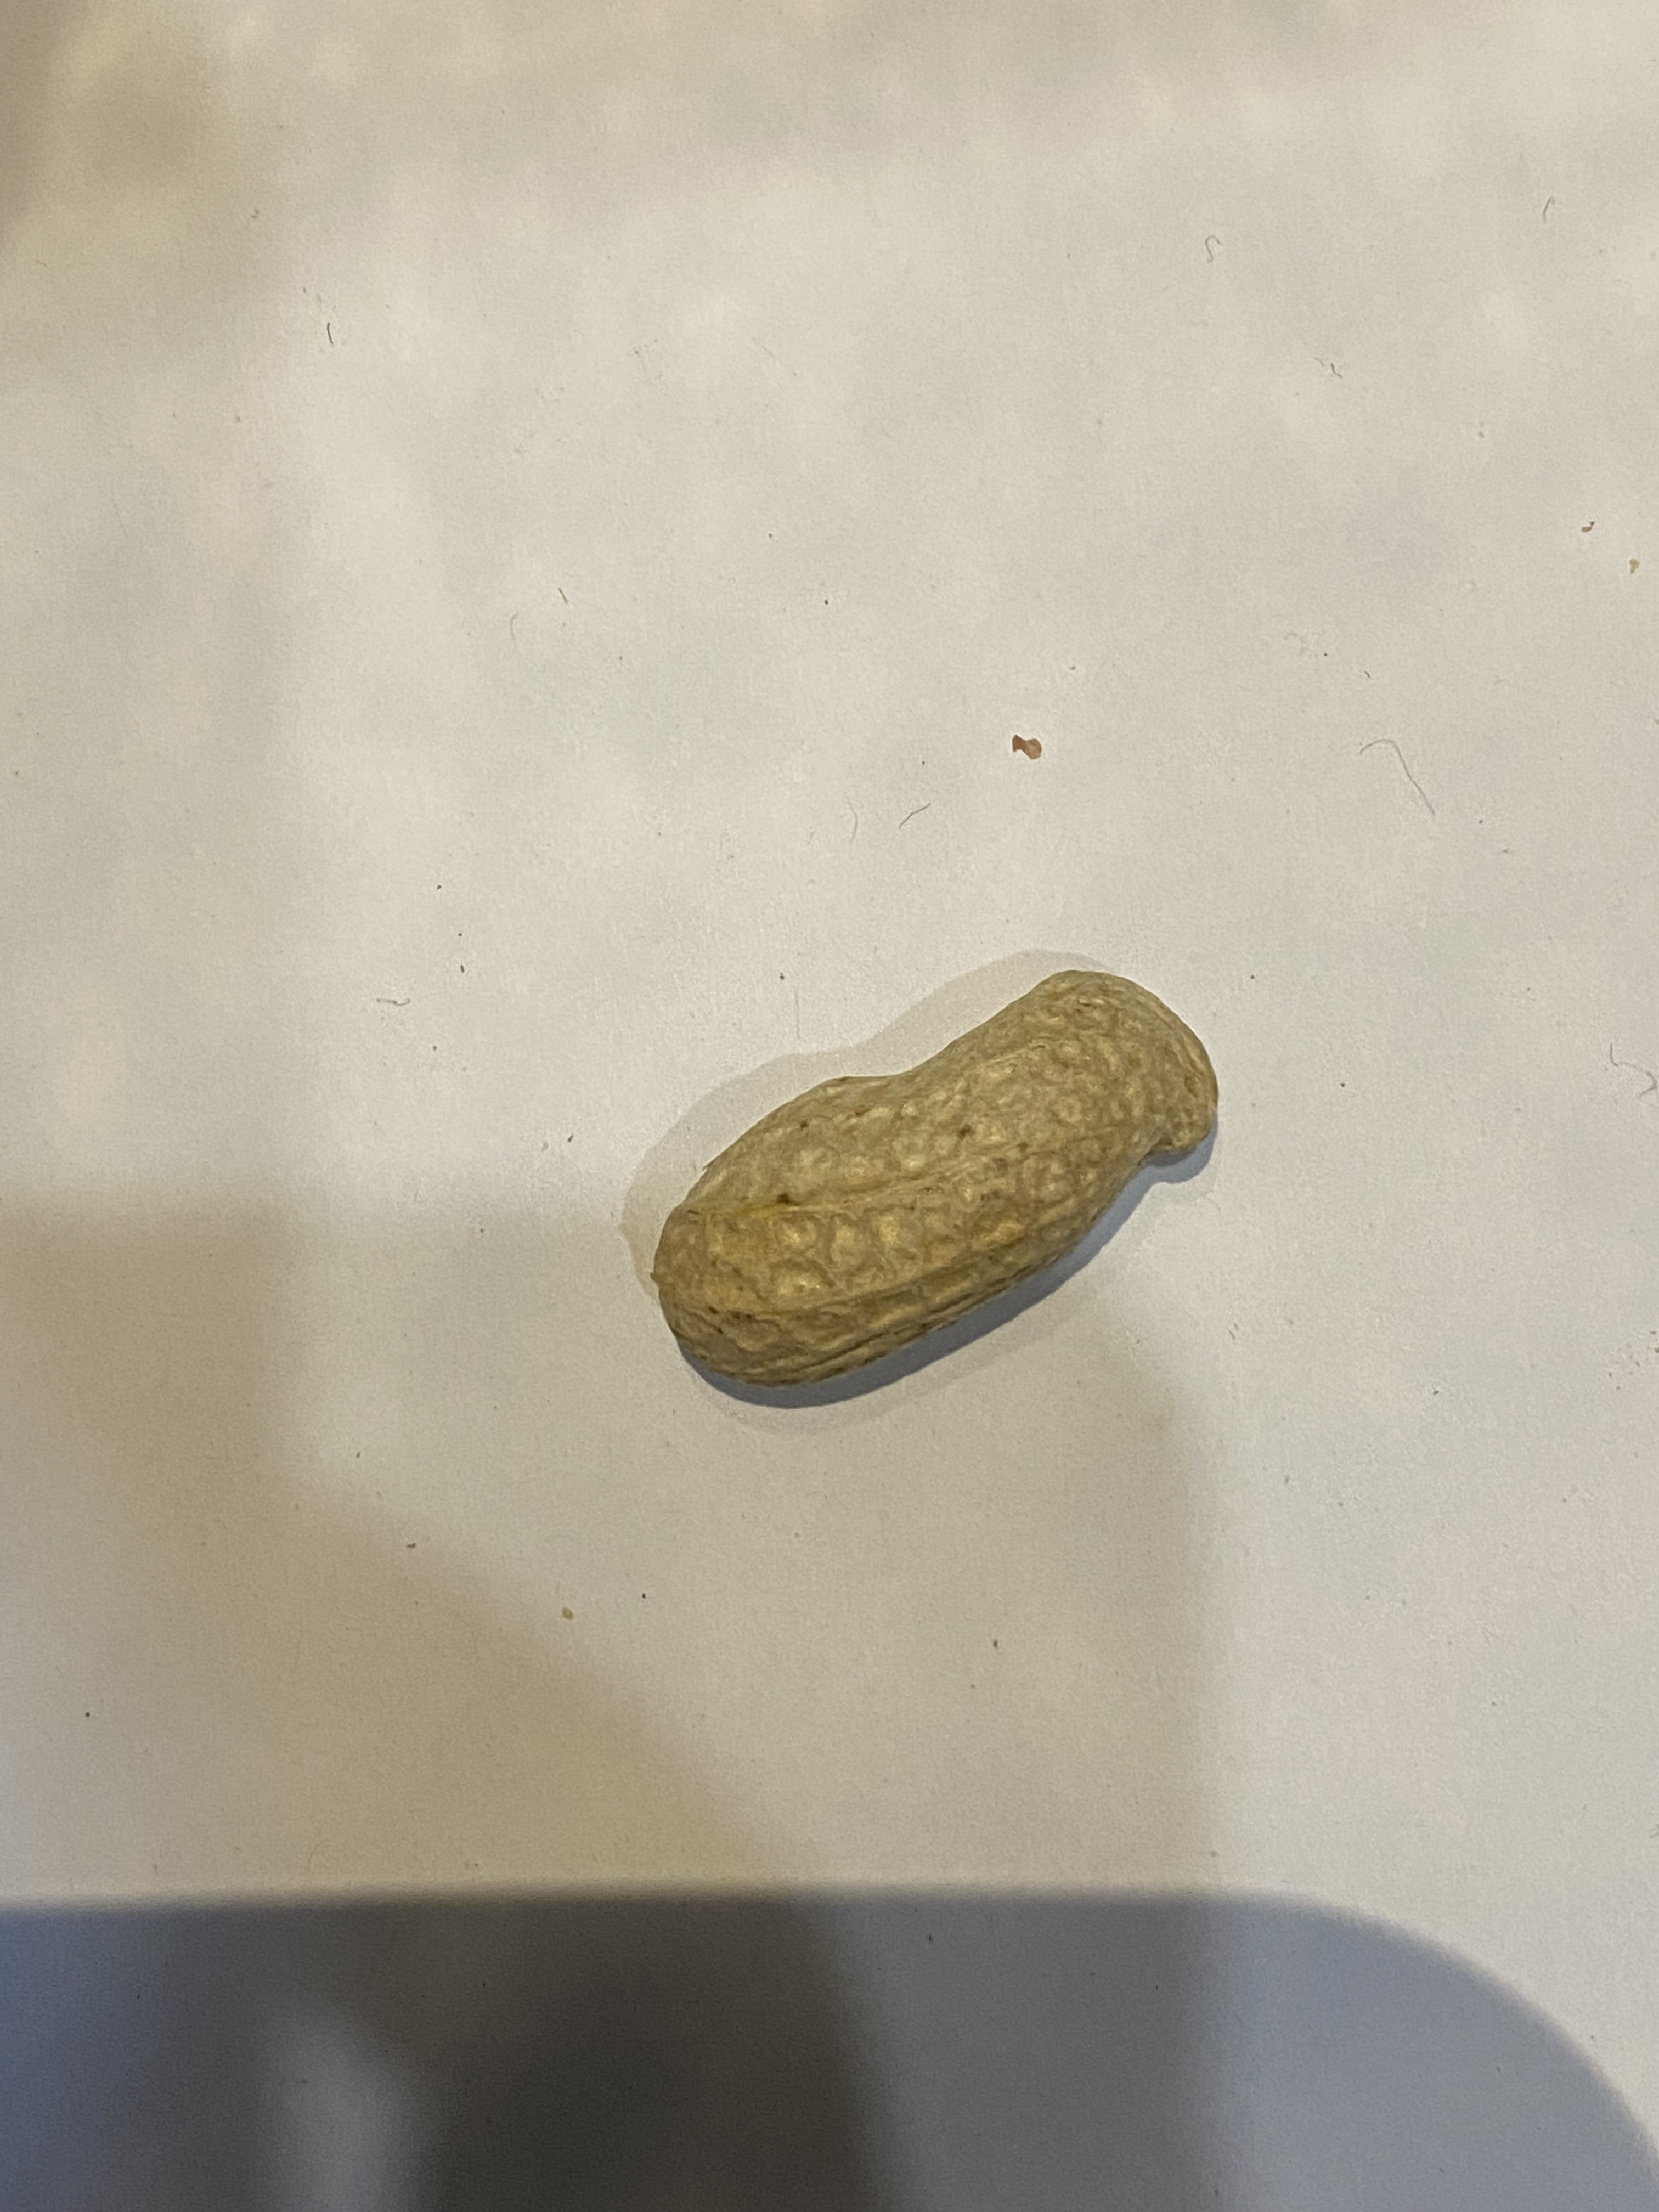kacang2: (636, 944, 1236, 1404)
